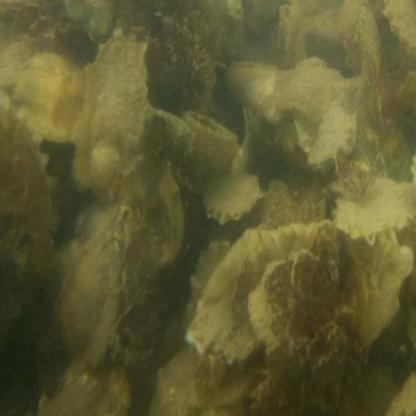Oyster- Indeterminate: (181, 110, 238, 178), (223, 57, 279, 118), (204, 165, 259, 226)
Oyster-Closed: (186, 222, 324, 360), (251, 226, 369, 365), (73, 30, 148, 199), (0, 95, 52, 337), (347, 228, 410, 344), (11, 49, 86, 145), (277, 62, 367, 122), (136, 156, 181, 267), (334, 183, 413, 241), (304, 101, 363, 170), (356, 11, 389, 123), (151, 348, 204, 416), (273, 4, 304, 68), (382, 0, 416, 44)
